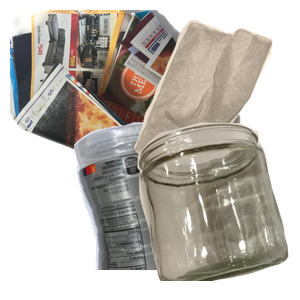glass: (135, 120, 300, 300)
paper: (10, 10, 250, 190)
plastic: (71, 120, 265, 300)
trash: (132, 17, 300, 177)
